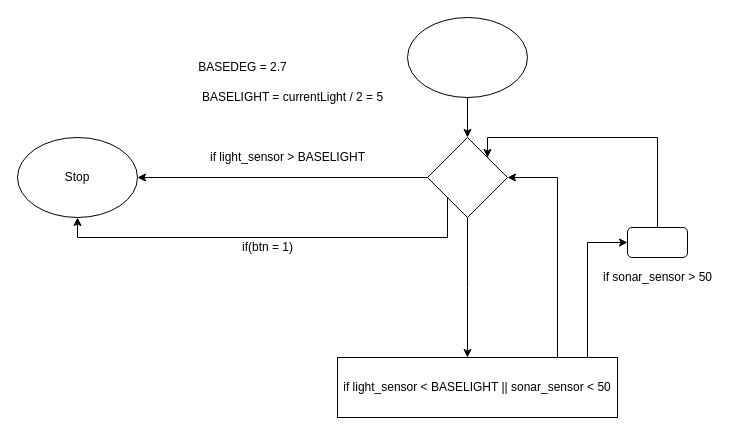
This 735x435 diagram has some shape labels left out. The centre of each missing label's shape, as x and y in pixels:
Start: the point at 467,57
turn(90): the point at 657,242
